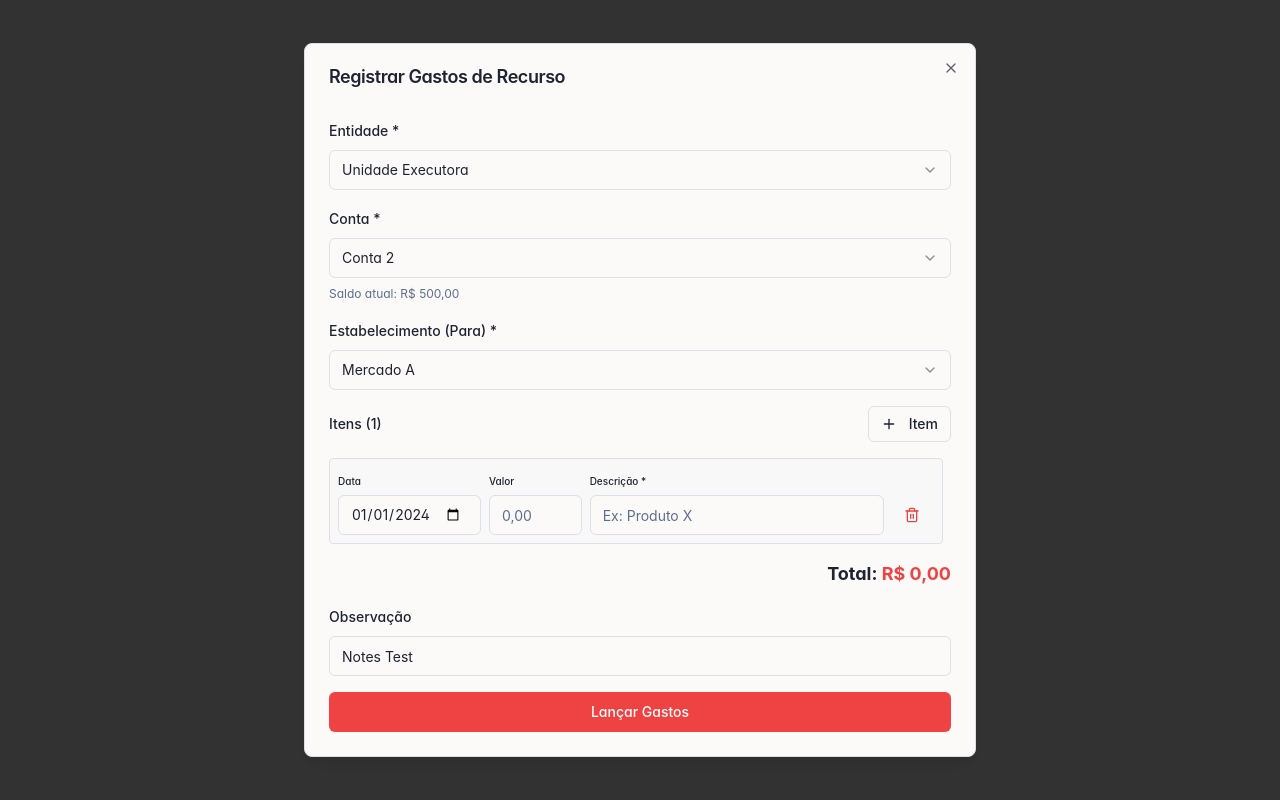
Test: GastoRecursoDialog component › should show alert when balance will be negative
The width and height of the screenshot is (1280, 800).
Type "600,00" into the field with placeholder "0,00".
click(535, 515); type("600,00")  # box [489,495,582,535]
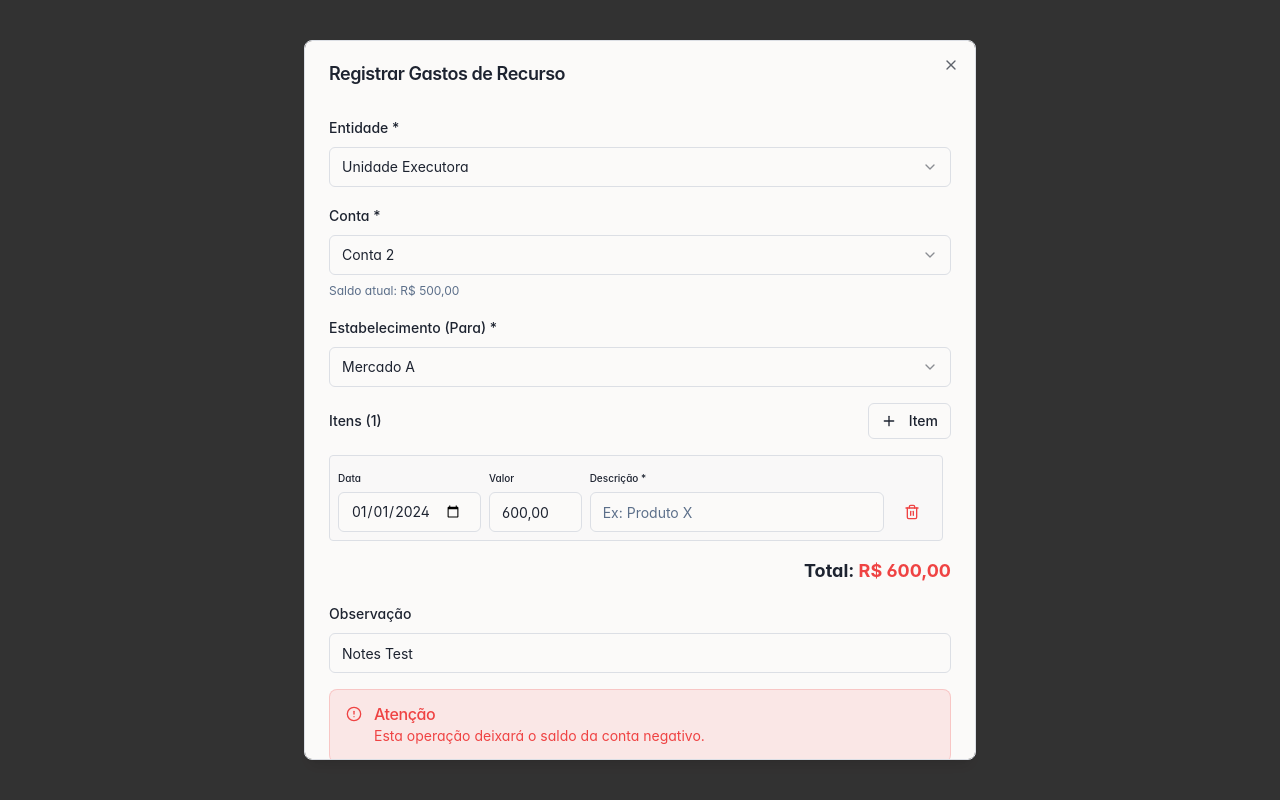
Result: the text "Esta operação deixará o saldo da conta negativo." is shown at [374,727,705,744]
